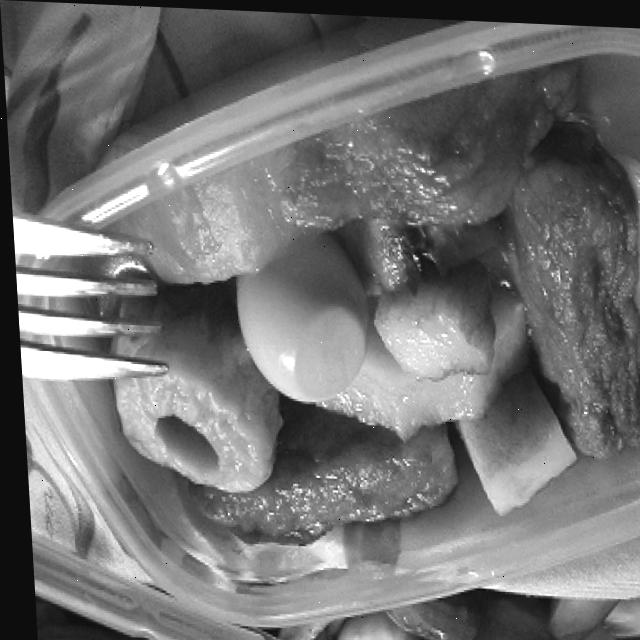汤锅炖物: (75, 31, 640, 570)
